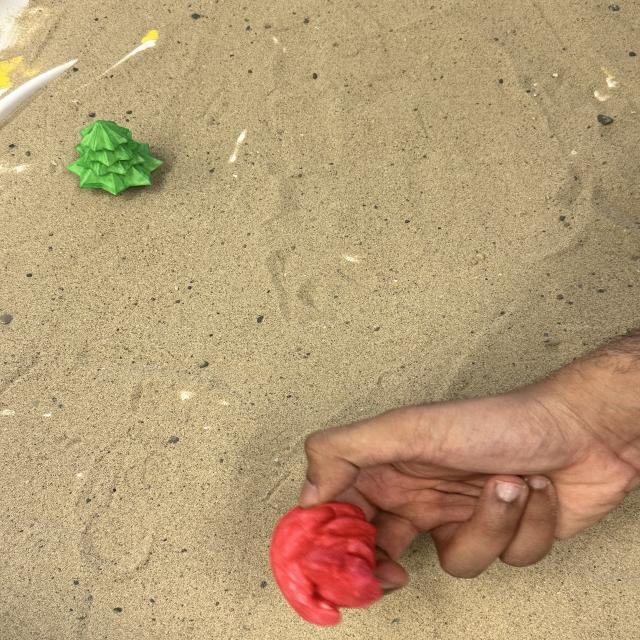fire: (268, 501, 384, 627)
tree: (64, 119, 164, 196)
